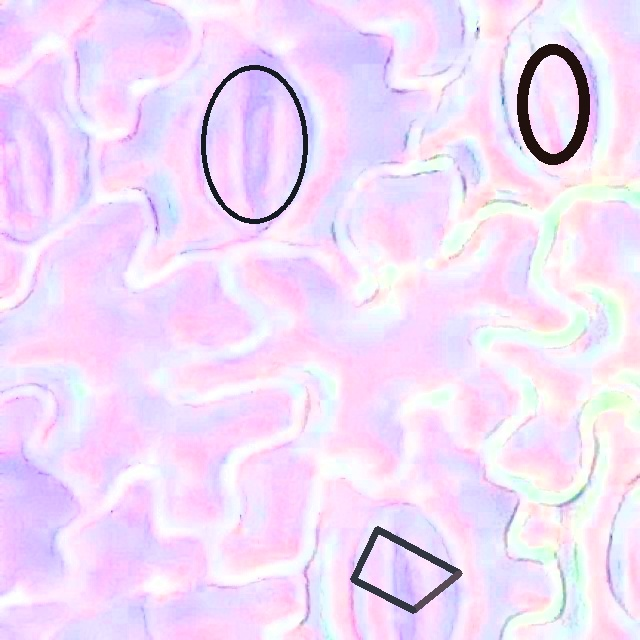open: (199, 64, 309, 225), (350, 526, 462, 613), (516, 44, 590, 165)
